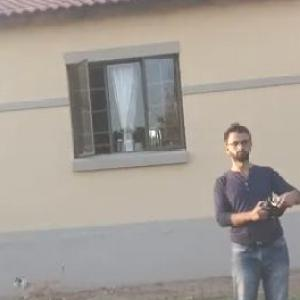follow: (205, 111, 300, 299)
null: (10, 256, 73, 299)
